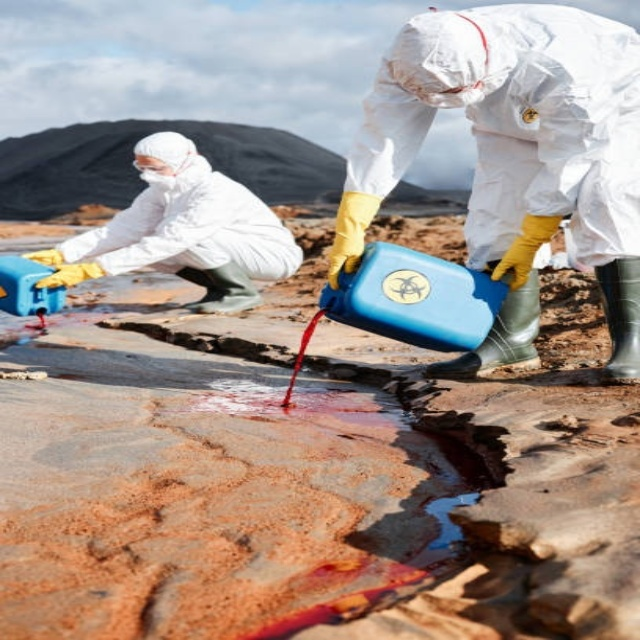Gafas: (405, 53, 483, 101), (133, 159, 171, 173)
Guantes: (490, 212, 567, 291), (326, 191, 382, 290), (34, 261, 106, 290), (21, 249, 64, 268)
Mascara: (407, 78, 482, 110), (138, 163, 179, 186)
